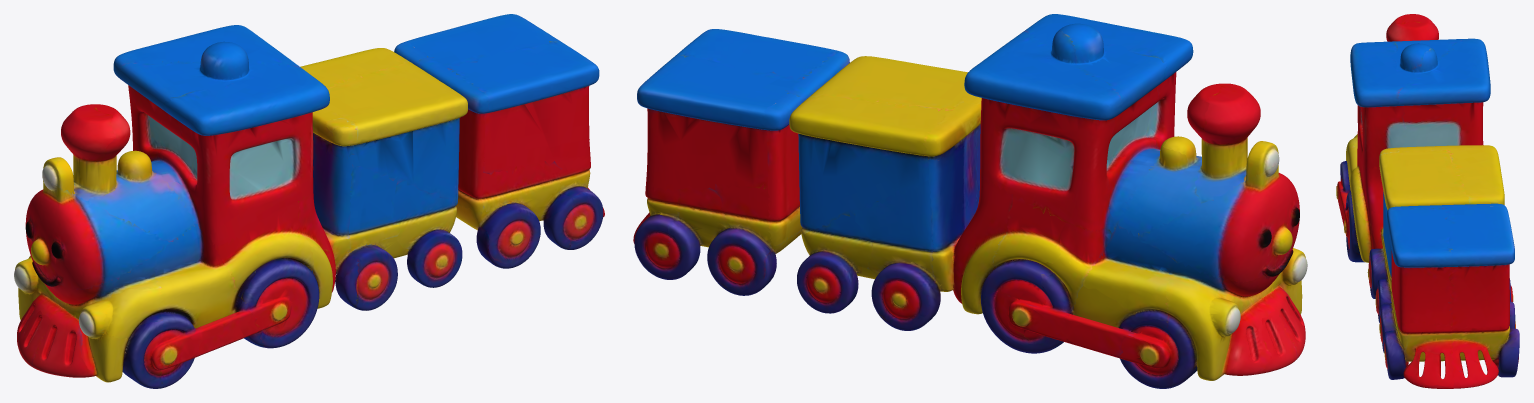
Rendered from Treno.glb.
The picture shows the model from 3 angles, left to right: view 1: azimuth 30°, elevation 25°; view 2: azimuth 150°, elevation 25°; view 3: azimuth 270°, elevation 25°; orthographic projection. The views are drawn at different scales.
Bounding box in the file's own units: 1.9 × 0.8756 × 0.6759.
1 material, 1 textured.
